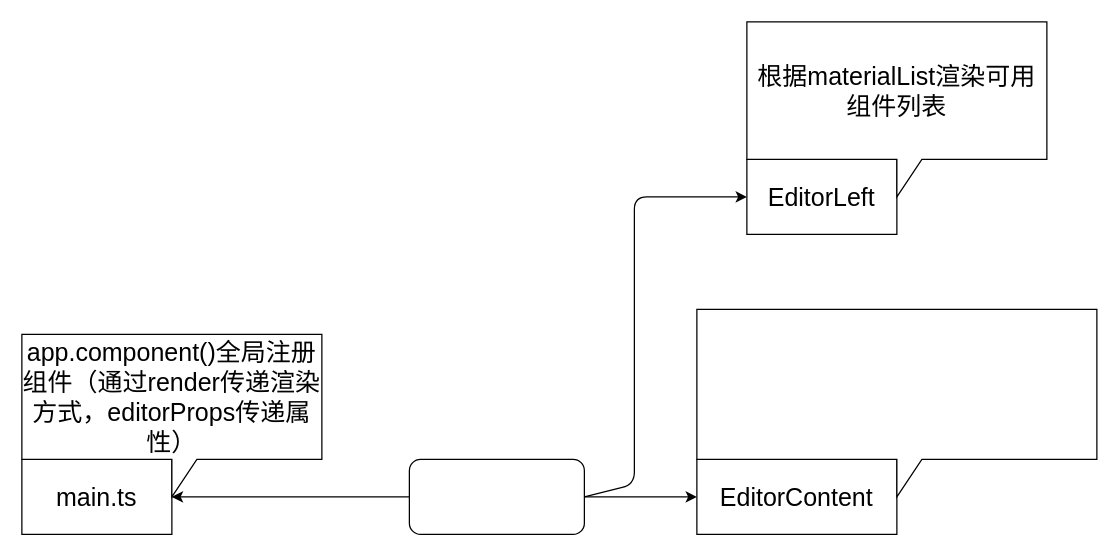
This 1119x556 diagram has some shape labels left out. The shapes that lost their labels are listed below. From the top down, each one's centre as x and y in pixels, then its label:
the point at 896,402: 根据拖拽事件使用<component>动态生成和定位<Lc-XX>系列组件
the point at 496,496: data/material
